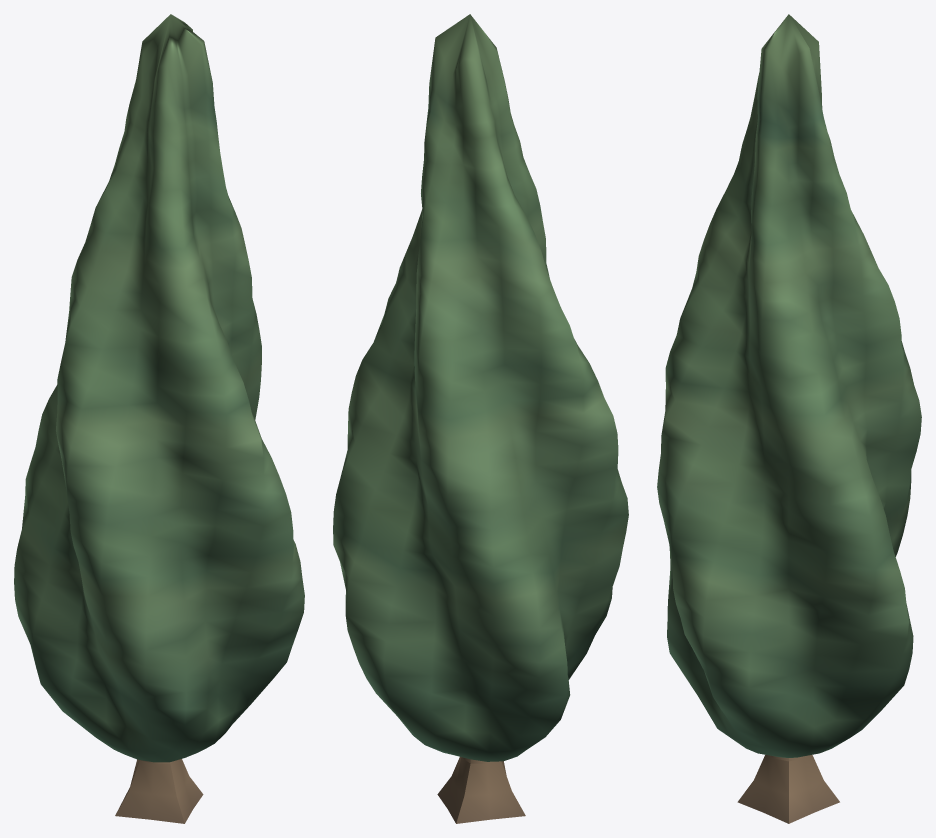
The model's file is cypress_a.glb.
The picture shows the model from 3 angles, left to right: view 1: azimuth 30°, elevation 25°; view 2: azimuth 150°, elevation 25°; view 3: azimuth 270°, elevation 25°; orthographic projection.
Parts seen in each view (by area): view 1: cypress_a; view 2: cypress_a; view 3: cypress_a.
Part boxes in pixels (box(x1,y1,x2,y2)): cypress_a: box(14, 14, 304, 823); cypress_a: box(333, 14, 628, 823); cypress_a: box(657, 14, 921, 823).
Bounding box in the file's own units: 9.32 × 30.82 × 9.32.
